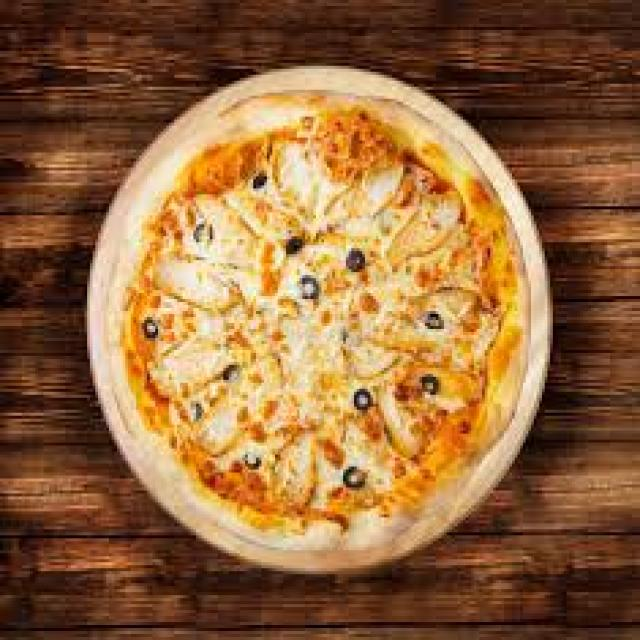피자: (117, 87, 551, 555)
